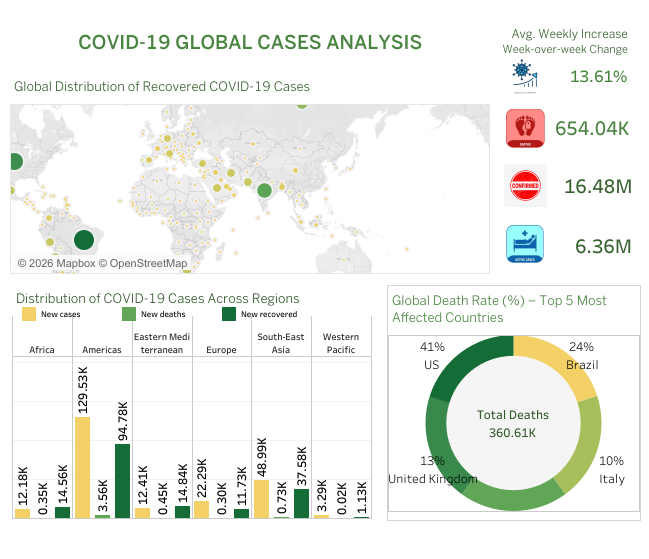

This screenshot's page, from the dashboard's own definition file:
{"tool":"tableau","page":{"name":"Dashboard 1","canvas":[650,860],"ordinal":0},"visuals":[{"type":"text","box":[9,29.2,481,72.2]},{"type":"worksheet","title":"Sheet 7","mark":"Automatic","box":[495,30.7,137,102.9]},{"type":"image","param":"Image/head icon.png","box":[17,35.3,60,56.8]},{"type":"image","param":"Image/covid.jpg","box":[502,84.5,57,46.1]},{"type":"worksheet","title":"Sheet 3","mark":"Automatic","box":[10,110.6,480,310.2]},{"type":"worksheet","title":"Sheet 6","mark":"Automatic","box":[500,130.5,134,81.4]},{"type":"image","param":"Image/deaths icon.jpg","box":[506,167.4,49,59.9]},{"type":"worksheet","title":"Sheet 5","mark":"Automatic","box":[502,221.1,135,106]},{"type":"image","param":"Image/confirmed cases.jpg","box":[501,251.9,50,66]},{"type":"worksheet","title":"Sheet 4","mark":"Automatic","box":[502,313.3,135,104.4]},{"type":"image","param":"Image/active cases.jpg","box":[506,345.5,54,58.4]},{"type":"worksheet","title":"Sheet 1","mark":"Automatic","cols":["WHO Region"],"box":[12,436.1,360,360.9]},{"type":"worksheet","title":"Sheet 2","mark":"Pie","cols":["Calculation_1112389140993875969","Calculation_1112389140993875969"],"box":[387,437.7,254,362.4]},{"type":"legend","title":"Sheet 1","param":"[federated.1xtwbpu1u77umf1fikrp01swbct9].[:Measure Names]","box":[19,466.9,352,33.8]}]}

Visuals, with their boxes on the page's 650x860 design canvas (x1, y1, x2, y2). These are canvas units, not pixel positions in the 649x559 screenshot, which may show the page scaled, cropped or inside an application window:
text: box=[9, 29, 490, 101]
"Sheet 7" worksheet: box=[495, 31, 632, 134]
image: box=[17, 35, 77, 92]
image: box=[502, 84, 559, 131]
"Sheet 3" worksheet: box=[10, 111, 490, 421]
"Sheet 6" worksheet: box=[500, 130, 634, 212]
image: box=[506, 167, 555, 227]
"Sheet 5" worksheet: box=[502, 221, 637, 327]
image: box=[501, 252, 551, 318]
"Sheet 4" worksheet: box=[502, 313, 637, 418]
image: box=[506, 346, 560, 404]
"Sheet 1" worksheet: box=[12, 436, 372, 797]
"Sheet 2" worksheet (Pie marks): box=[387, 438, 641, 800]
"Sheet 1" legend: box=[19, 467, 371, 501]
